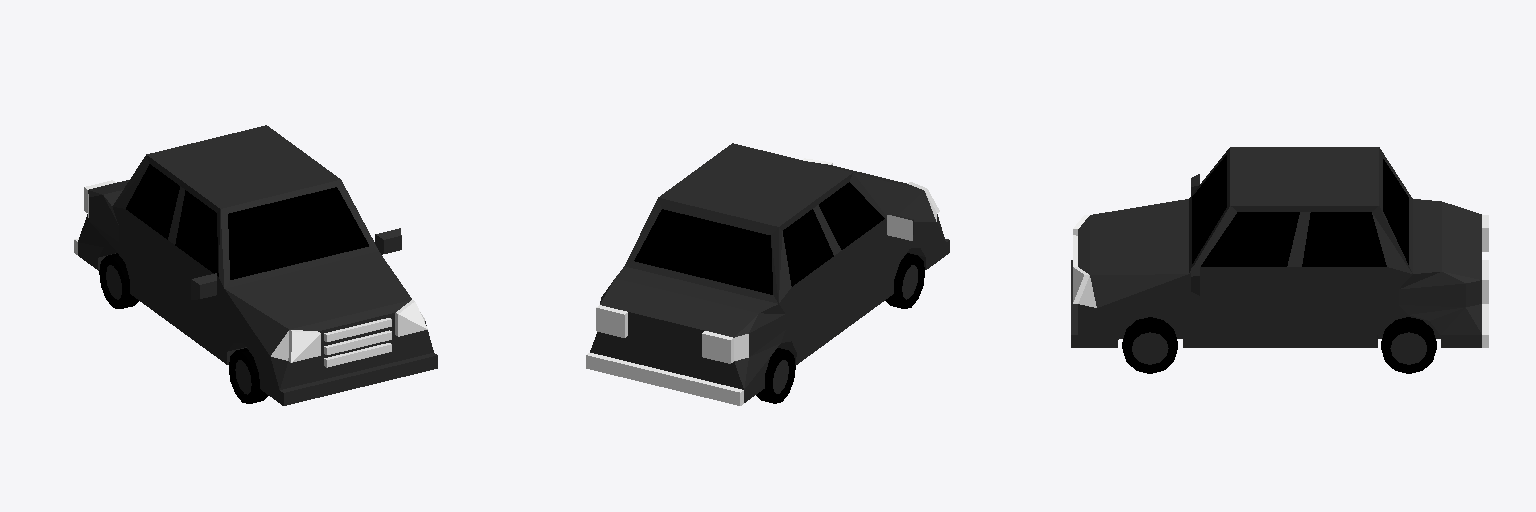
The model's file is car.5.obj.
The picture shows the model from 3 angles: view 1: azimuth 30°, elevation 25°; view 2: azimuth 150°, elevation 25°; view 3: azimuth 270°, elevation 25°; orthographic projection.
Parts seen in each view (by area): view 1: car6; view 2: car6; view 3: car6.
Boxes of the visible parts, <box> form: car6: <box>74,125,437,405</box>; car6: <box>586,143,949,405</box>; car6: <box>1071,147,1488,373</box>.
Bounding box in the file's own units: 1.95 × 1.42 × 3.37.